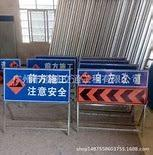sign: (79, 71, 147, 105), (4, 68, 68, 102), (28, 61, 74, 68)
